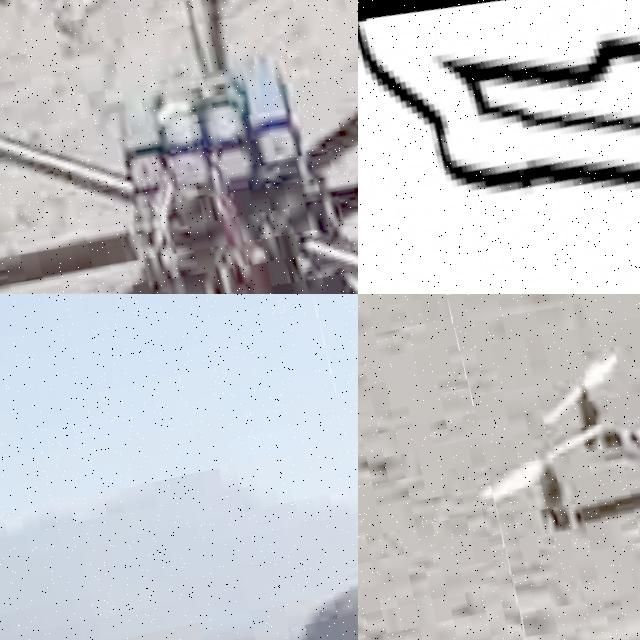drone: (0, 0, 358, 294), (358, 0, 640, 294), (447, 294, 640, 640)
